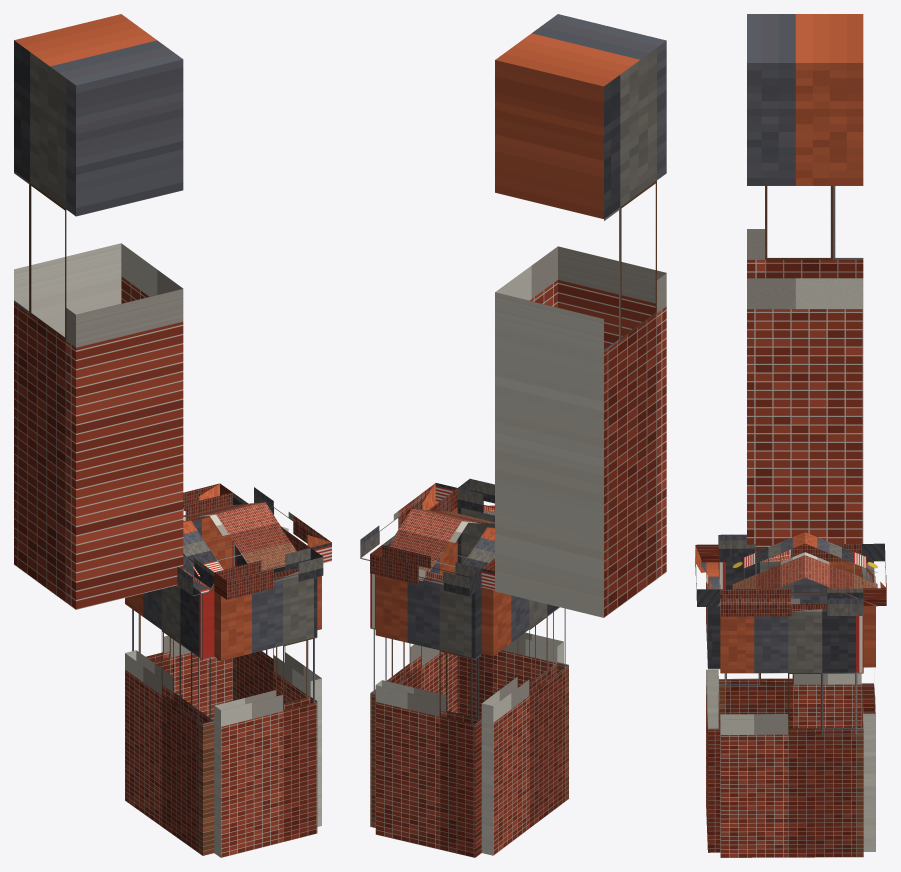
3 renders of one model, left to right at view 1: azimuth 30°, elevation 25°; view 2: azimuth 150°, elevation 25°; view 3: azimuth 270°, elevation 25°, orthographic. The views are drawn at different scales.
Parts seen in each view (by area): view 1: 1106966926__chimney_0_xb, 1106966926__wall_2_xb, 1106966926__wall_3_xb, 1106966926__wall_0_xb, 1106966926__wall_1_xb, 1106966926_roof_-1_xb, 1106966926__cornice_2, 1106966926__cornice_1, 1106966926__cornice_0, 1106966926__cornice_3; view 2: 1106966926__chimney_0_xb, 1106966926__wall_0_xb, 1106966926__wall_3_xb, 1106966926__wall_2_xb, 1106966926__wall_1_xb, 1106966926_roof_1_xb, 1106966926__cornice_0, 1106966926__cornice_1, 1106966926__cornice_2; view 3: 1106966926__chimney_0_xb, 1106966926__wall_1_xb, 1106966926__wall_3_xb, 1106966926__wall_2_xb, 1106966926__cornice_1, 1106966926__wall_0_xb, 1106966926_roof_1_xb, 1106966926_roof_-1_xb, 1106966926__cornice_3, 1106966926__cornice_2, 1106966926__cornice_0.
Boxes of the visible parts, bbox=[...] form: 1106966926__chimney_0_xb: bbox=[14, 14, 183, 609]; 1106966926__wall_2_xb: bbox=[214, 571, 317, 857]; 1106966926__wall_3_xb: bbox=[125, 569, 214, 855]; 1106966926__wall_0_xb: bbox=[132, 517, 232, 720]; 1106966926__wall_1_xb: bbox=[232, 541, 321, 826]; 1106966926_roof_-1_xb: bbox=[183, 502, 296, 576]; 1106966926__cornice_2: bbox=[214, 548, 323, 599]; 1106966926__cornice_1: bbox=[232, 487, 331, 563]; 1106966926__cornice_0: bbox=[183, 483, 232, 521]; 1106966926__cornice_3: bbox=[177, 554, 214, 596]; 1106966926__chimney_0_xb: bbox=[495, 14, 666, 617]; 1106966926__wall_0_xb: bbox=[375, 574, 481, 857]; 1106966926__wall_3_xb: bbox=[481, 587, 568, 855]; 1106966926__wall_2_xb: bbox=[457, 507, 563, 718]; 1106966926__wall_1_xb: bbox=[370, 507, 457, 827]; 1106966926_roof_1_xb: bbox=[389, 509, 494, 581]; 1106966926__cornice_0: bbox=[370, 545, 481, 596]; 1106966926__cornice_1: bbox=[360, 483, 457, 560]; 1106966926__cornice_2: bbox=[457, 478, 494, 515]; 1106966926__chimney_0_xb: bbox=[747, 14, 863, 552]; 1106966926__wall_1_xb: bbox=[720, 608, 863, 857]; 1106966926__wall_3_xb: bbox=[719, 561, 861, 728]; 1106966926__wall_2_xb: bbox=[706, 562, 720, 852]; 1106966926__cornice_1: bbox=[720, 588, 863, 616]; 1106966926__wall_0_xb: bbox=[861, 561, 875, 851]; 1106966926_roof_1_xb: bbox=[805, 532, 877, 606]; 1106966926_roof_-1_xb: bbox=[732, 532, 804, 598]; 1106966926__cornice_3: bbox=[718, 534, 861, 562]; 1106966926__cornice_2: bbox=[695, 544, 720, 606]; 1106966926__cornice_0: bbox=[861, 543, 886, 605].
Bounding box in the file's own units: 0.338 × 1.05 × 0.2469.
1 material, 1 textured.
